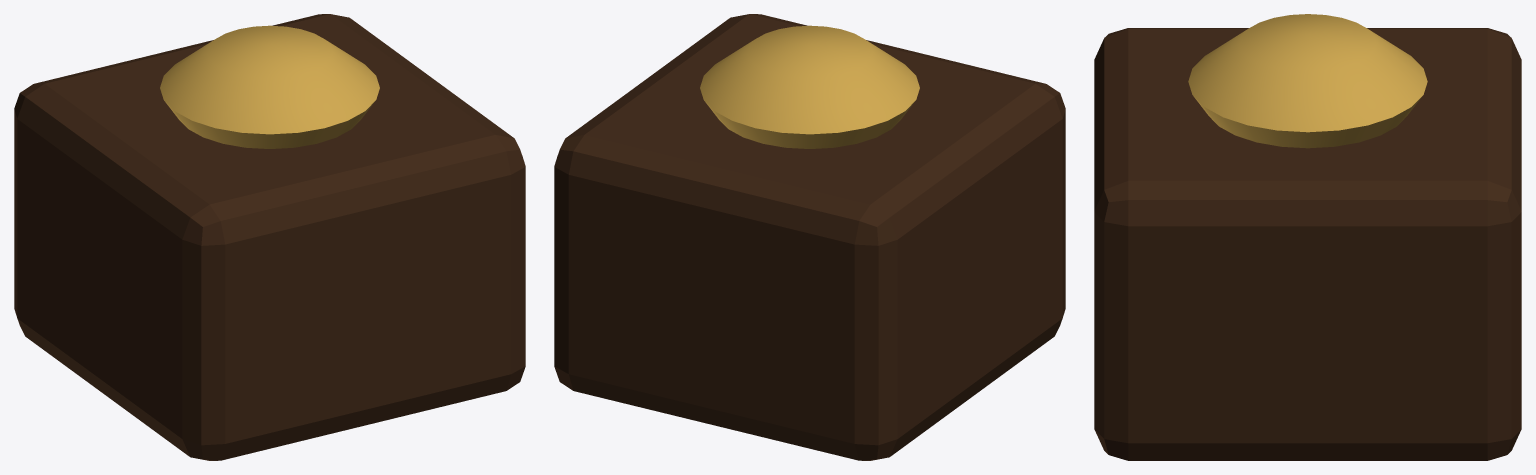
The model's file is frame_corner.fbx.
The picture shows the model from 3 angles, left to right: view 1: azimuth 30°, elevation 25°; view 2: azimuth 150°, elevation 25°; view 3: azimuth 270°, elevation 25°; orthographic projection. The views are drawn at different scales.
Visible parts, largest first — view 1: block, rosette; view 2: block, rosette; view 3: block, rosette.
Part boxes in pixels (bbox=[...]): block: bbox=[14, 14, 525, 460]; rosette: bbox=[160, 25, 379, 148]; block: bbox=[554, 14, 1065, 460]; rosette: bbox=[700, 25, 919, 148]; block: bbox=[1094, 28, 1521, 460]; rosette: bbox=[1188, 14, 1427, 148].
Size of the model in its own units: 0.05 by 0.045 by 0.05.
